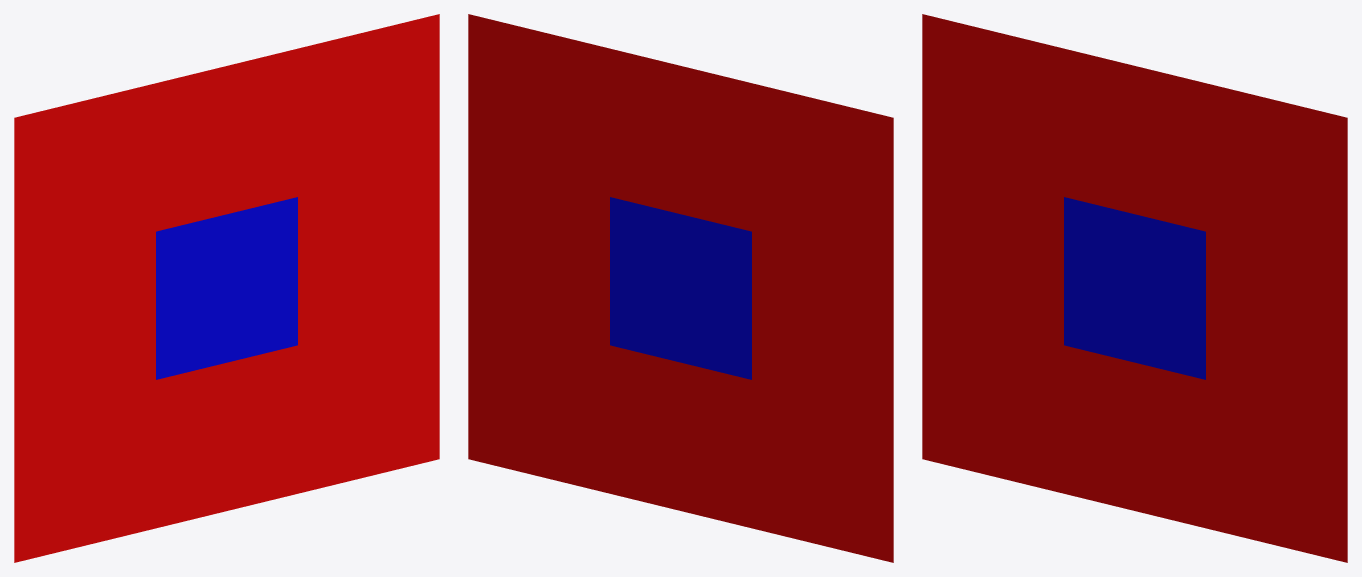
The model's file is color_boundary.glb.
3 views of the same model, side by side, from view 1: azimuth 30°, elevation 25°; view 2: azimuth 150°, elevation 25°; view 3: azimuth 330°, elevation 25° (orthographic).
Parts seen in each view (by area): view 1: Test part; view 2: Test part; view 3: Test part.
Boxes of the visible parts, x1,y1,x2,y2 form: Test part: (14, 14, 439, 562); Test part: (468, 14, 893, 562); Test part: (922, 14, 1347, 562).
Bounding box in the file's own units: 3 × 3 × 0.
